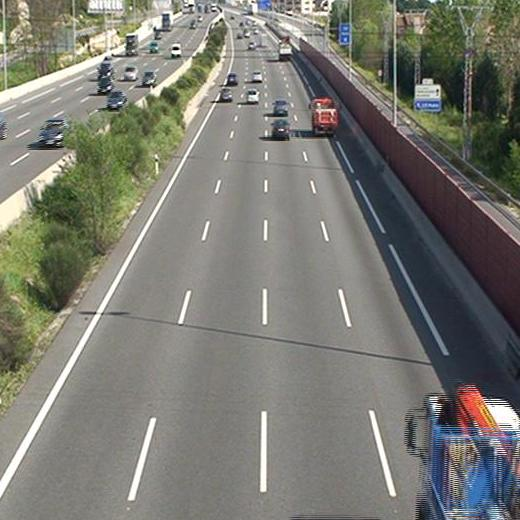car: (272, 119, 290, 138), (273, 99, 289, 116), (245, 89, 259, 103), (219, 87, 232, 101), (226, 73, 237, 85), (252, 70, 262, 82)
small-truck: (311, 98, 337, 136), (279, 38, 291, 61)
